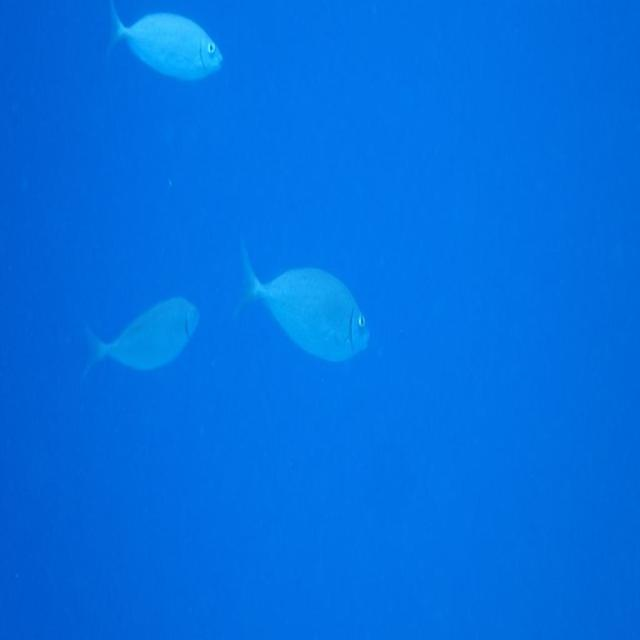Sokar Baligi: (228, 225, 375, 372), (76, 294, 208, 386), (103, 0, 233, 88)
